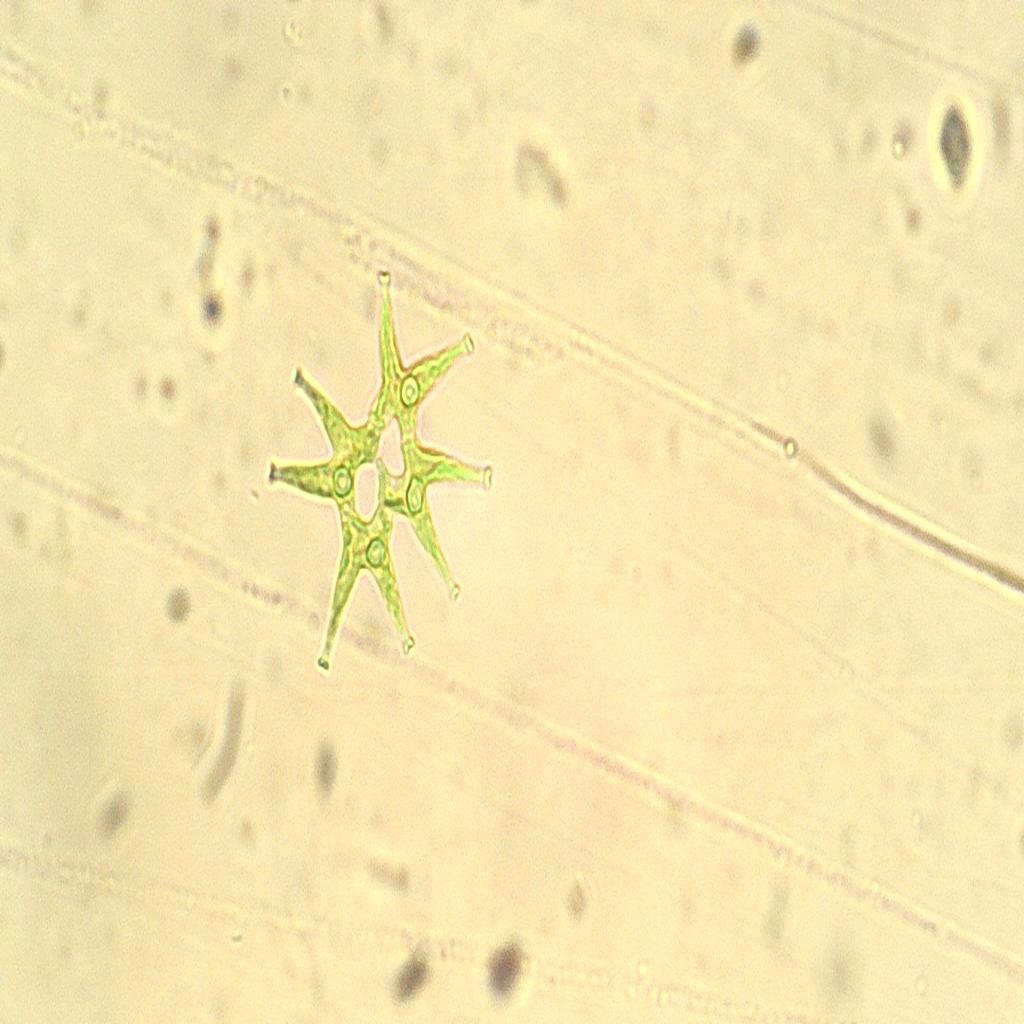Pediastrum_75FO: (259, 260, 499, 687)
